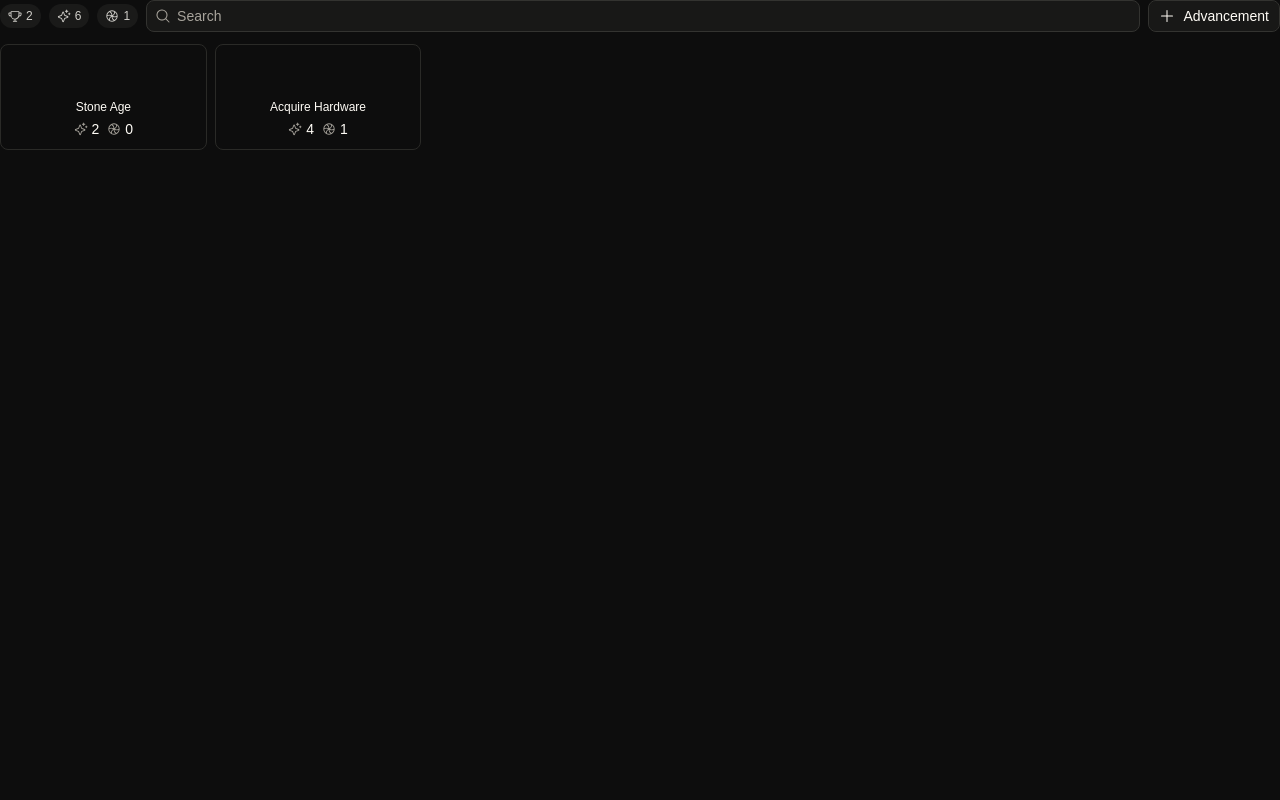
Test: game group editors › removes an award from its dialog after asking
Click the button "Stone Age 2 0": (103, 97) [0,44,207,150]
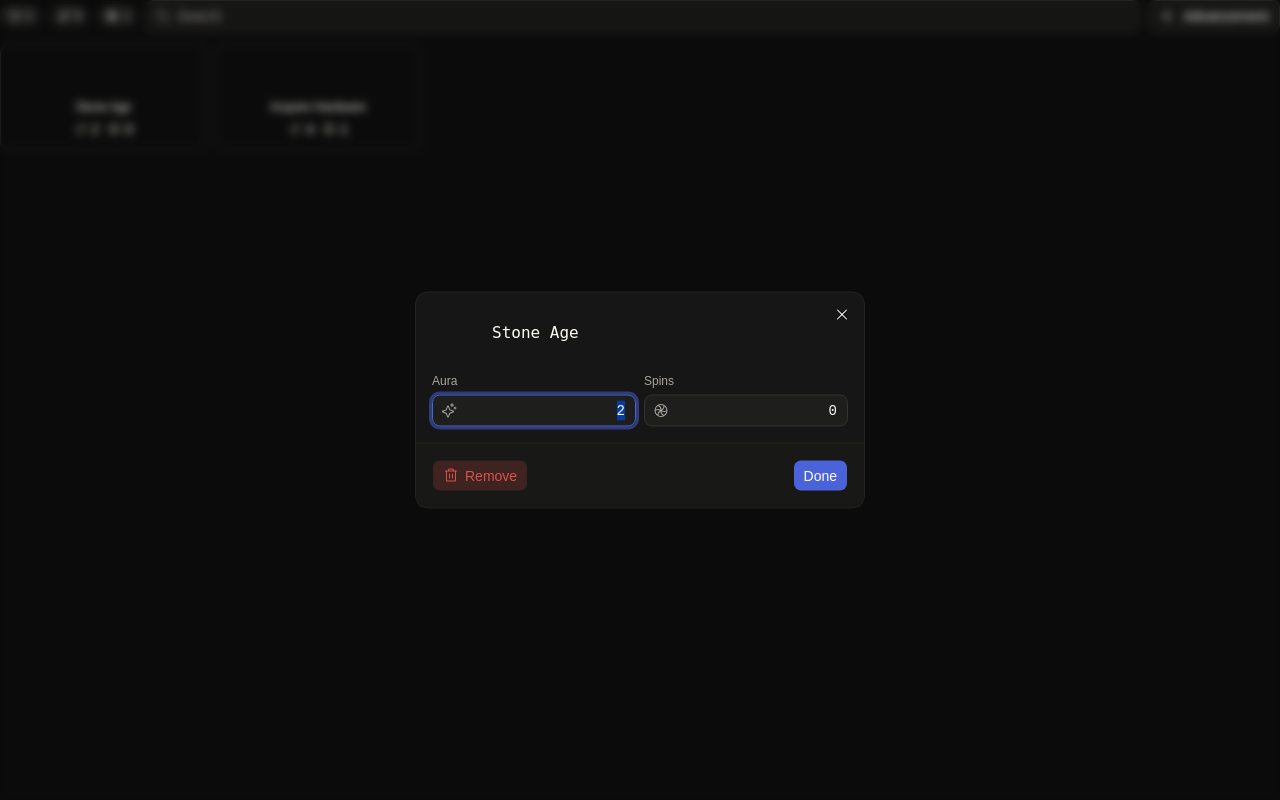
Click the button "Remove": (480, 476) [432,460,528,492]
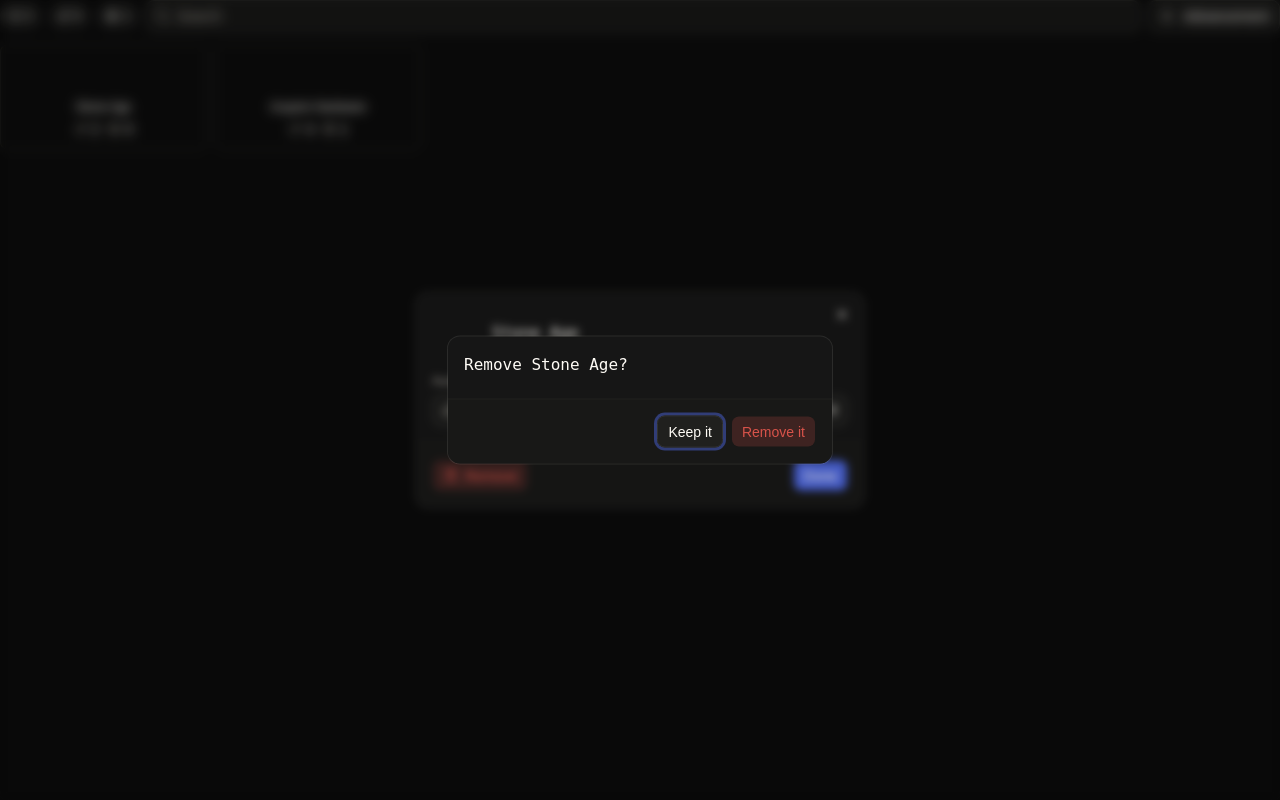
Click the button "Remove it": (774, 432) [731,416,816,448]
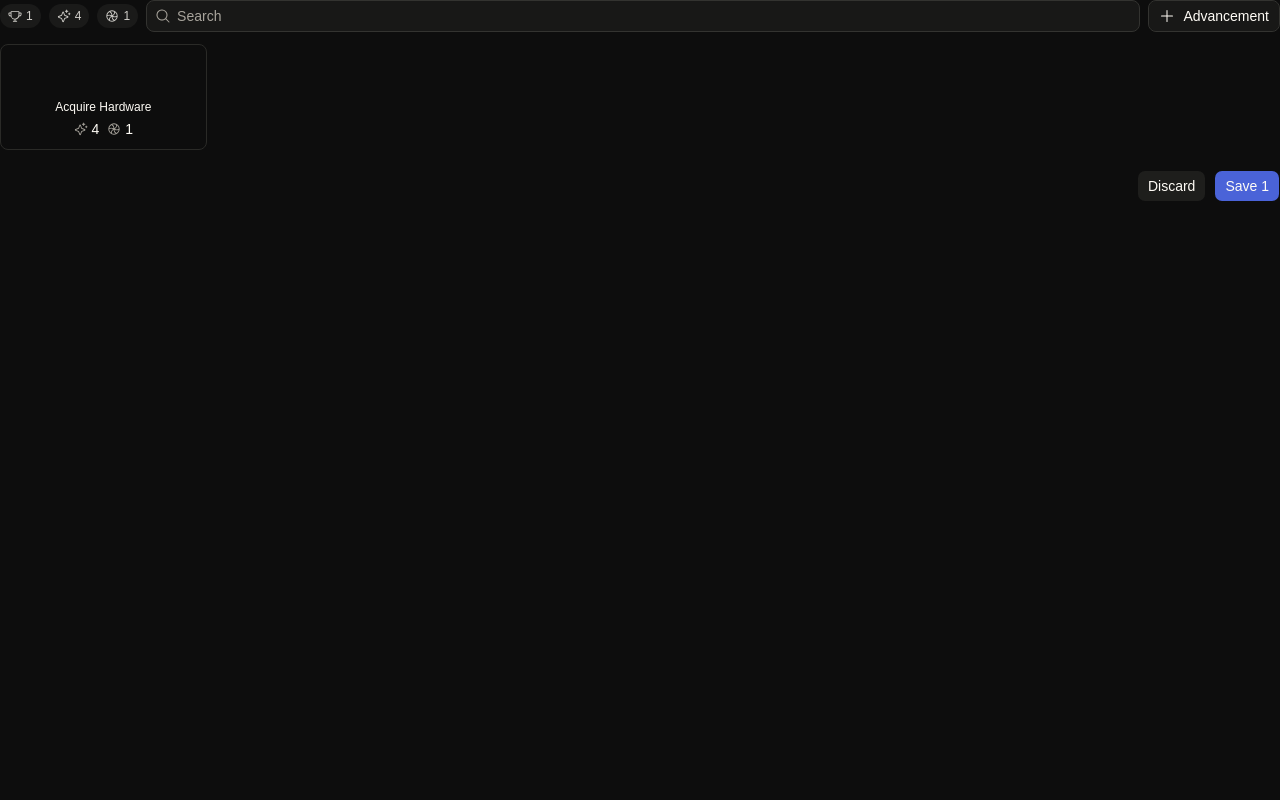
Expected: the button "Acquire Hardware 4 1" is shown, [0,44,207,150]
Expected: the button "Stone Age" is gone
